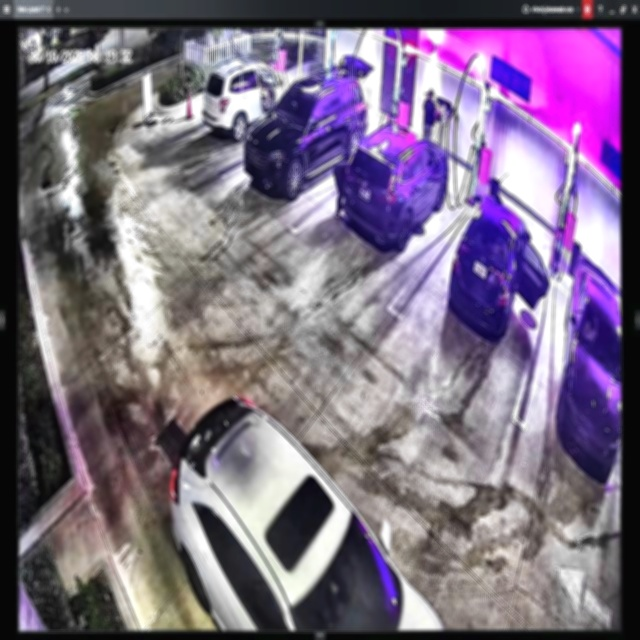Car: (171, 417, 438, 640), (447, 176, 549, 340), (251, 52, 367, 192), (332, 114, 450, 246), (198, 62, 304, 151)
